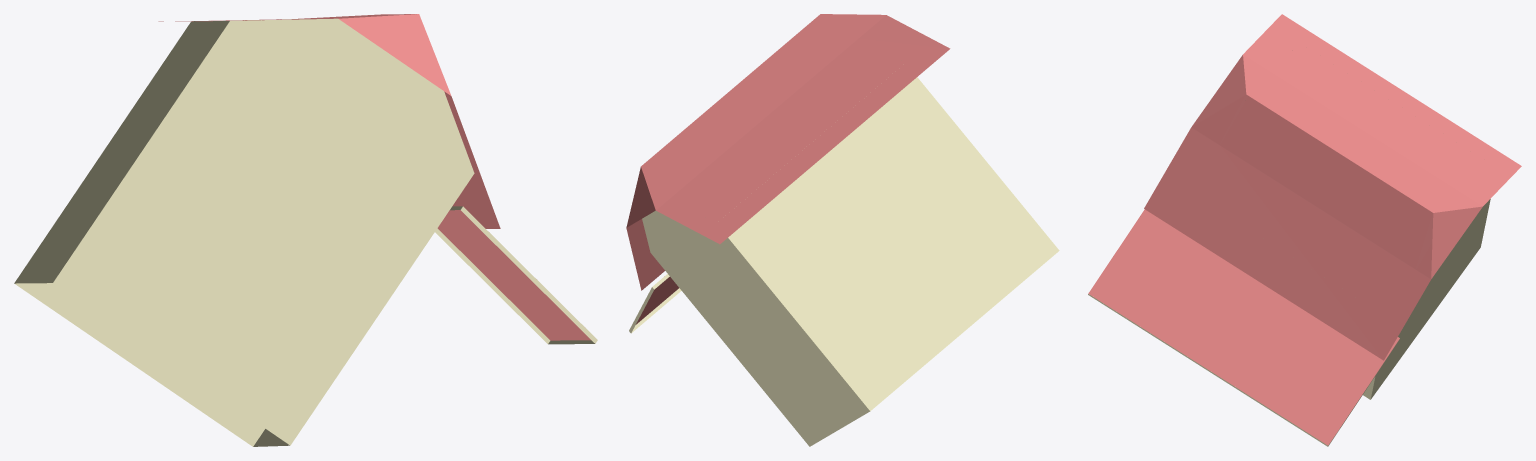
File: tile_071.glb
3 views of the same model, side by side, from view 1: azimuth 30°, elevation 25°; view 2: azimuth 150°, elevation 25°; view 3: azimuth 270°, elevation 25° (orthographic). The views are drawn at different scales.
Visible parts, largest first — view 1: Batched_Building_ID_021687BA-F4E3-44E7-A16A-AD7A9B2EA0B3; view 2: Batched_Building_ID_021687BA-F4E3-44E7-A16A-AD7A9B2EA0B3; view 3: Batched_Building_ID_021687BA-F4E3-44E7-A16A-AD7A9B2EA0B3.
Part boxes in pixels (x1=…): Batched_Building_ID_021687BA-F4E3-44E7-A16A-AD7A9B2EA0B3: x1=14, y1=14, x2=597, y2=446; Batched_Building_ID_021687BA-F4E3-44E7-A16A-AD7A9B2EA0B3: x1=626, y1=14, x2=1059, y2=446; Batched_Building_ID_021687BA-F4E3-44E7-A16A-AD7A9B2EA0B3: x1=1088, y1=14, x2=1521, y2=446.
Size of the model in its own units: 13.25 by 11.99 by 13.64.
